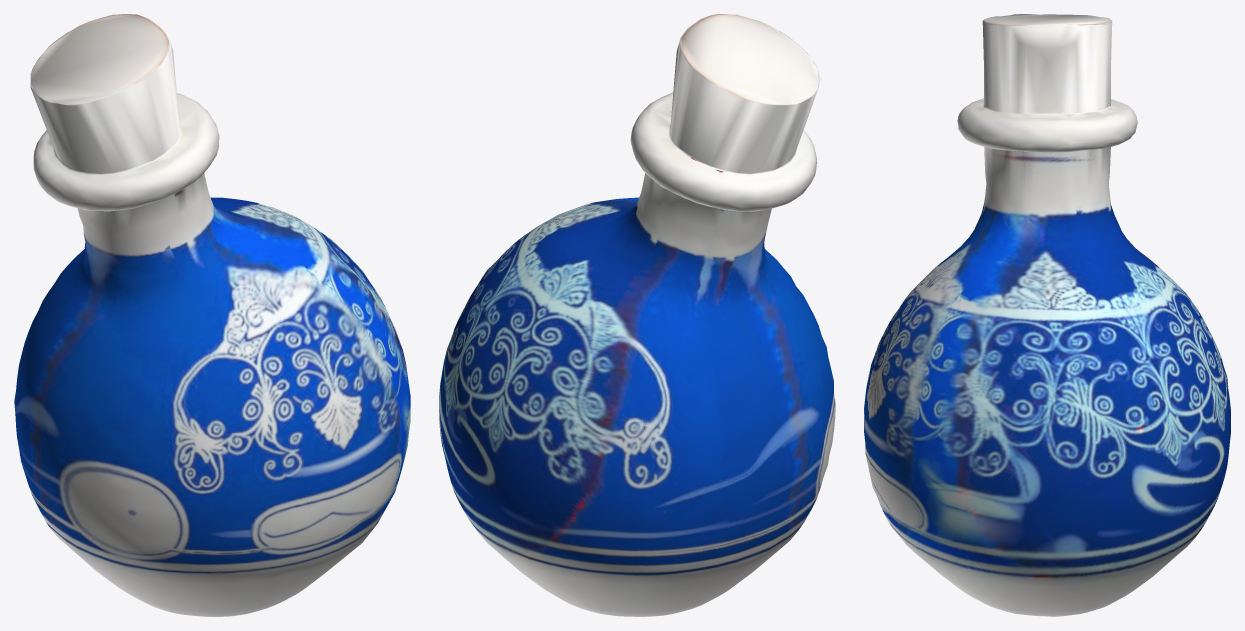
Rendered from blue_elixir.glb.
The picture shows the model from 3 angles, left to right: view 1: azimuth 30°, elevation 25°; view 2: azimuth 150°, elevation 25°; view 3: azimuth 270°, elevation 25°; orthographic projection. The views are drawn at different scales.
Parts seen in each view (by area): view 1: Mesh_0; view 2: Mesh_0; view 3: Mesh_0.
Part boxes in pixels (x1=…): Mesh_0: x1=14, y1=14, x2=410, y2=616; Mesh_0: x1=439, y1=14, x2=835, y2=616; Mesh_0: x1=864, y1=14, x2=1230, y2=616.
Bounding box in the file's own units: 0.0626 × 0.1 × 0.0622.
1 material, 1 textured.
